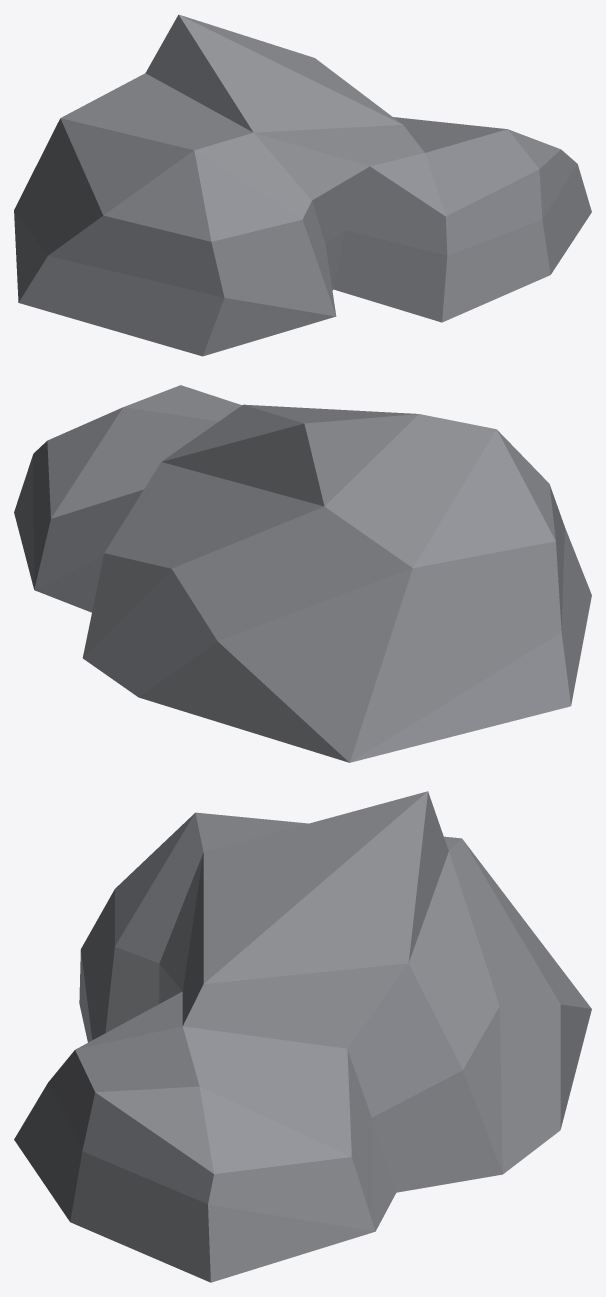
Rendered from stone_3.fbx.
3 views of the same model, one above another, from view 1: azimuth 30°, elevation 25°; view 2: azimuth 150°, elevation 25°; view 3: azimuth 270°, elevation 25° (orthographic). The views are drawn at different scales.
Parts seen in each view (by area): view 1: stone_3; view 2: stone_3; view 3: stone_3.
Boxes of the visible parts, <box> form: stone_3: <box>14,14,591,356</box>; stone_3: <box>14,385,591,762</box>; stone_3: <box>14,791,591,1282</box>.
Size of the model in its own units: 243 by 96.35 by 179.
